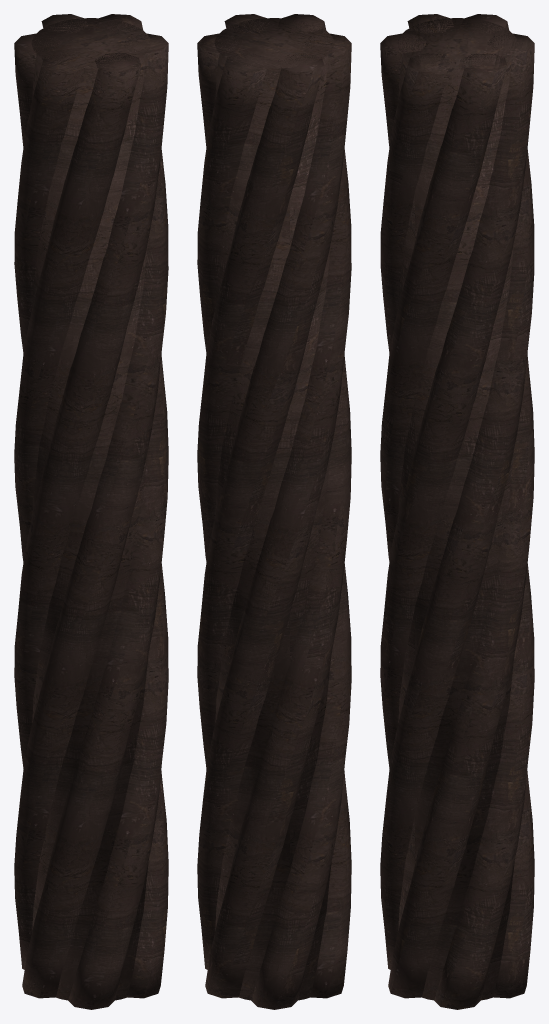
The model's file is court_column.glb.
3 views of the same model, side by side, from view 1: azimuth 30°, elevation 25°; view 2: azimuth 150°, elevation 25°; view 3: azimuth 270°, elevation 25° (orthographic).
Parts seen in each view (by area): view 1: court_column.027; view 2: court_column.027; view 3: court_column.027.
Boxes of the visible parts, box(x1,y1,x2,y2) form: court_column.027: box(14, 14, 168, 1009); court_column.027: box(197, 14, 351, 1009); court_column.027: box(380, 14, 534, 1009).
Size of the model in its own units: 1.35 by 9 by 1.35.
Materials: 1 (1 with a texture image).
